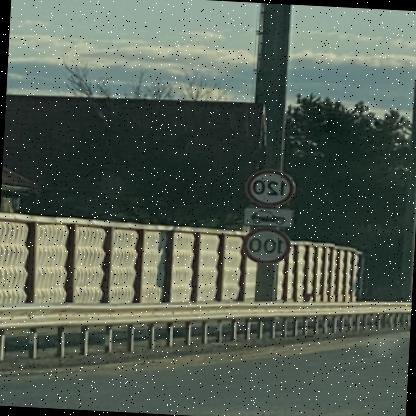speedlimit: (248, 168, 298, 206), (245, 226, 296, 263)
